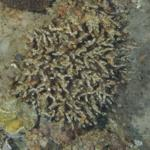dead: (22, 18, 125, 121)
